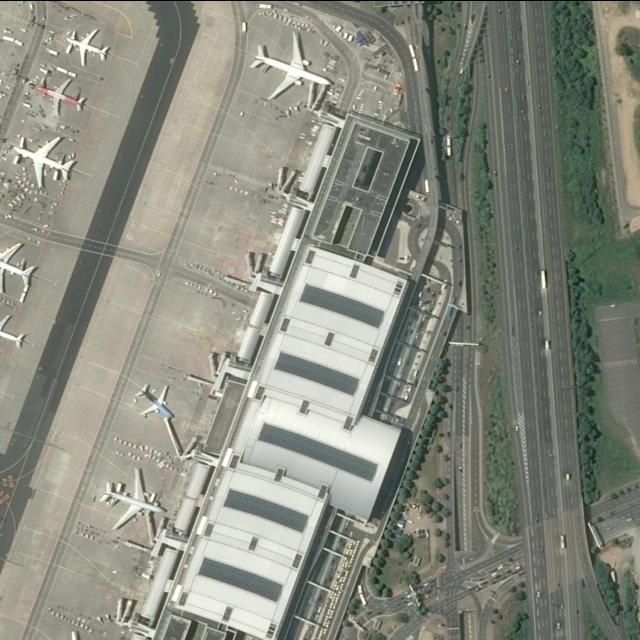Aircraft: (252, 30, 335, 102), (101, 470, 166, 531), (12, 134, 74, 188), (37, 79, 88, 118), (65, 27, 111, 67), (0, 243, 37, 292), (136, 382, 176, 418), (0, 310, 25, 356)
